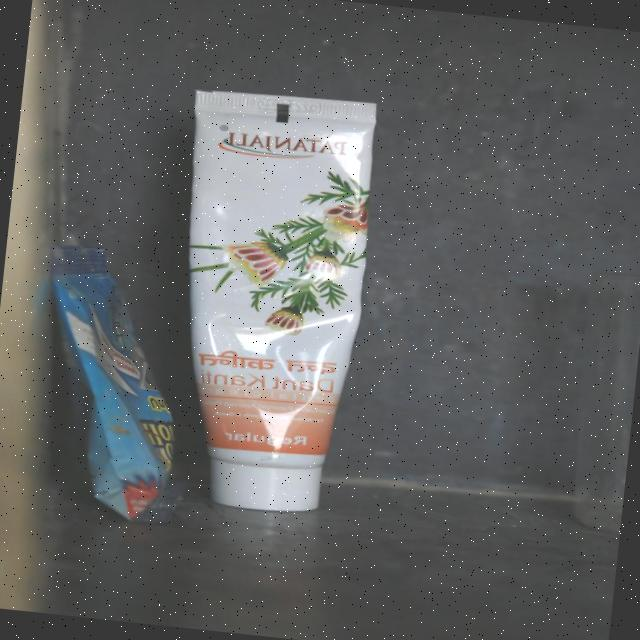Toothpaste: (147, 78, 396, 530)
